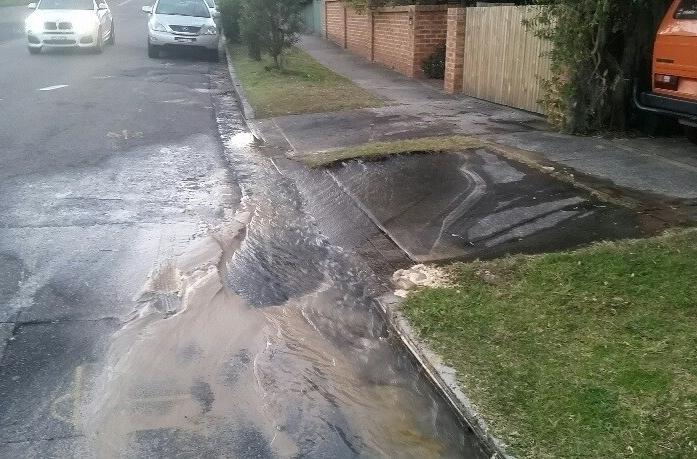water accumulation: (62, 135, 492, 459)
